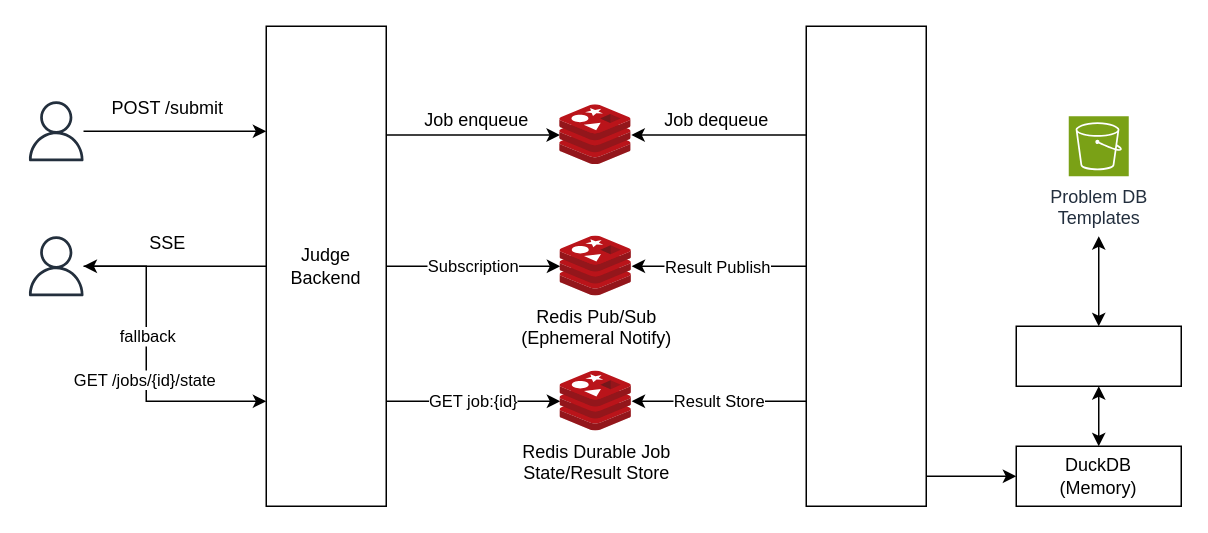
Some shapes in this 1208 by 533 pixel diagram are drawn without their labels. The centre of each missing label's shape, as x and y in pixels:
"Query Runner (Worker)" belongs at point (865, 265).
"Redis Queue" belongs at point (595, 134).
"Worker Local Cache" belongs at point (1098, 355).
